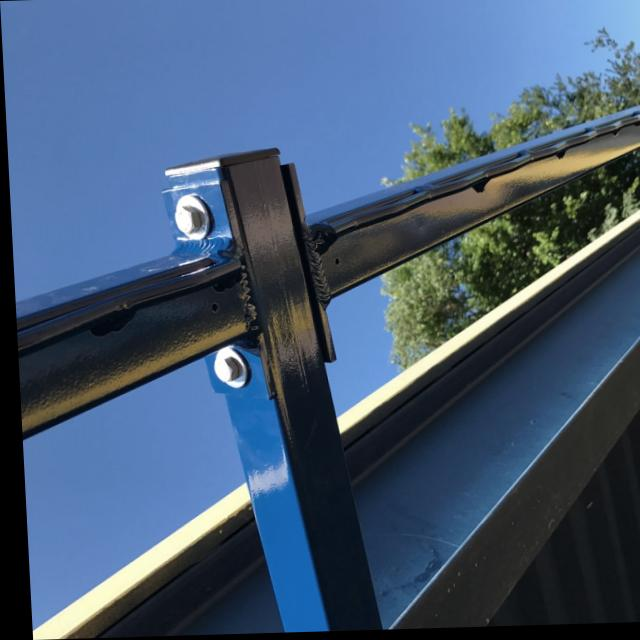Regular bolt: (172, 205, 200, 235), (210, 358, 239, 385)
